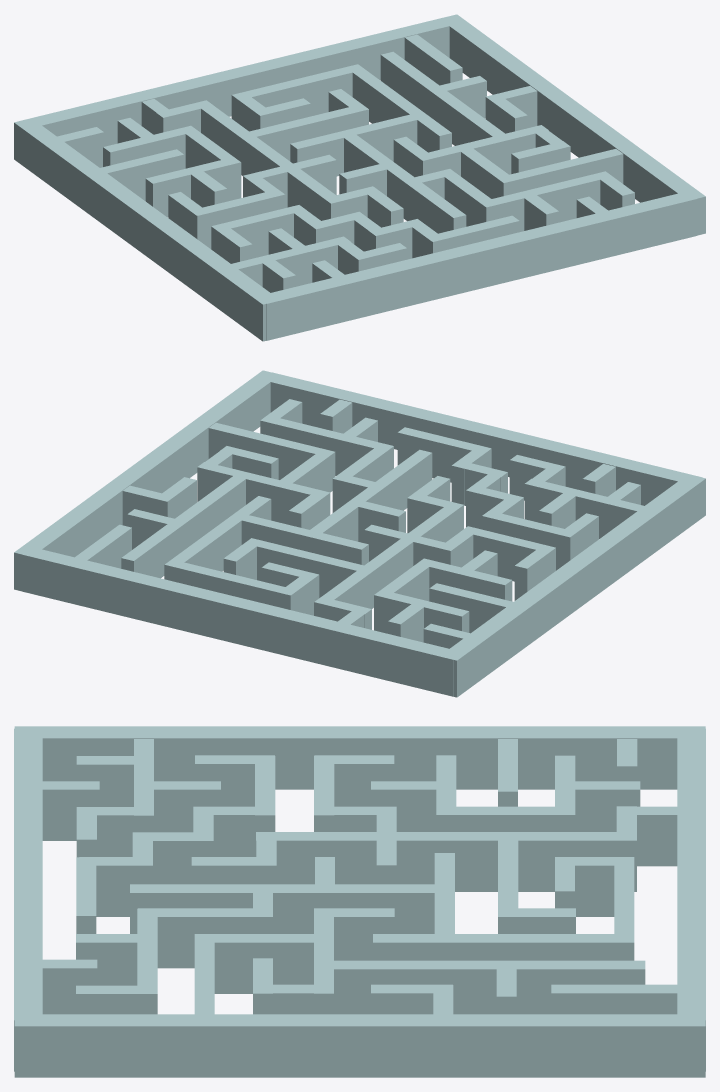
File: Laberinto4.fbx
3 views of the same model, one above another, from view 1: azimuth 30°, elevation 25°; view 2: azimuth 150°, elevation 25°; view 3: azimuth 270°, elevation 25° (orthographic). The views are drawn at different scales.
Parts seen in each view (by area): view 1: pasted__polySurface91, pasted__polySurface90, pasted__polySurface89, pasted__polySurface88, pasted__pCube107, pasted__pCube117, pasted__pCube108, pasted__pCube109, pasted__pCube137, pasted__pCube141, pasted__pCube139, pasted__pCube142 (+45 smaller); view 2: pasted__polySurface89, pasted__polySurface90, pasted__polySurface91, pasted__polySurface88, pasted__pCube117, pasted__pCube107, pasted__pCube108, pasted__pCube137, pasted__pCube139, pasted__pCube140, pasted__pCube144, pasted__pCube142 (+45 smaller); view 3: pasted__polySurface88, pasted__polySurface90, pasted__pCube107, pasted__pCube117, pasted__pCube108, pasted__polySurface89, pasted__polySurface91, pasted__pCube109, pasted__pCube110, pasted__pCube118, pasted__pCube116, pasted__pCube134 (+45 smaller).
Boxes of the visible parts, <box> form: pasted__polySurface91: <box>257,191,696,340</box>; pasted__polySurface90: <box>14,119,279,341</box>; pasted__polySurface89: <box>18,16,457,146</box>; pasted__polySurface88: <box>440,14,705,235</box>; pasted__pCube107: <box>195,101,343,220</box>; pasted__pCube117: <box>380,51,504,145</box>; pasted__pCube108: <box>337,130,466,233</box>; pasted__pCube109: <box>345,64,451,152</box>; pasted__pCube137: <box>290,111,428,176</box>; pasted__pCube141: <box>481,171,606,231</box>; pasted__pCube139: <box>231,65,364,118</box>; pasted__pCube142: <box>497,149,623,195</box>; pasted__polySurface89: <box>23,547,453,696</box>; pasted__polySurface90: <box>440,475,705,697</box>; pasted__polySurface91: <box>262,372,702,505</box>; pasted__polySurface88: <box>14,370,279,591</box>; pasted__pCube117: <box>121,471,252,578</box>; pasted__pCube107: <box>315,502,463,608</box>; pasted__pCube108: <box>304,449,432,541</box>; pasted__pCube137: <box>230,513,368,565</box>; pasted__pCube139: <box>164,560,297,609</box>; pasted__pCube140: <box>197,462,330,524</box>; pasted__pCube144: <box>524,478,643,538</box>; pasted__pCube142: <box>208,422,328,479</box>; pasted__polySurface88: <box>14,1014,705,1077</box>; pasted__polySurface90: <box>14,726,705,789</box>; pasted__pCube107: <box>256,832,634,891</box>; pasted__pCube117: <box>315,960,645,1014</box>; pasted__pCube108: <box>130,884,453,933</box>; pasted__polySurface89: <box>677,728,705,1071</box>; pasted__polySurface91: <box>14,728,42,1071</box>; pasted__pCube109: <box>373,934,634,960</box>; pasted__pCube110: <box>194,934,333,993</box>; pasted__pCube118: <box>138,908,272,968</box>; pasted__pCube116: <box>551,984,677,1014</box>; pasted__pCube134: <box>436,806,575,831</box>.
Size of the model in its own units: 26.29 by 2.13 by 25.61.
